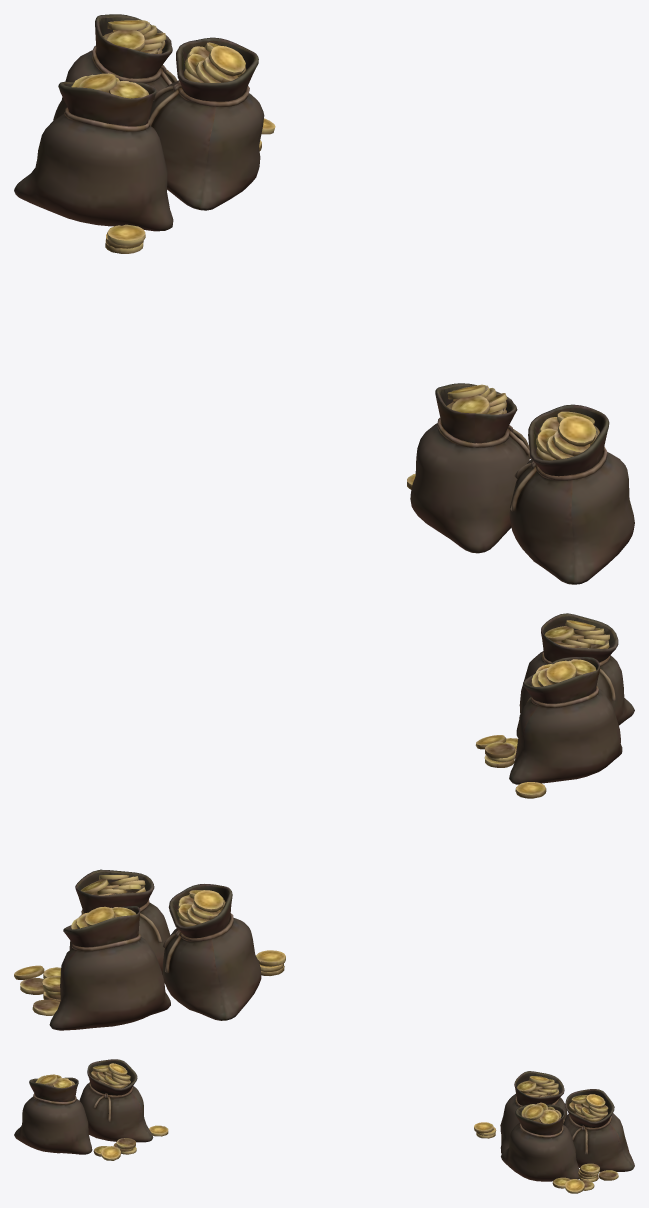
The model's file is SM_MarketCoin_cb7269.glb.
3 renders of one model, top to bottom at view 1: azimuth 30°, elevation 25°; view 2: azimuth 150°, elevation 25°; view 3: azimuth 270°, elevation 25°, orthographic. The views are drawn at different scales.
Size of the model in its own units: 0.7737 by 0.341 by 2.64.
1 material, 1 textured.
